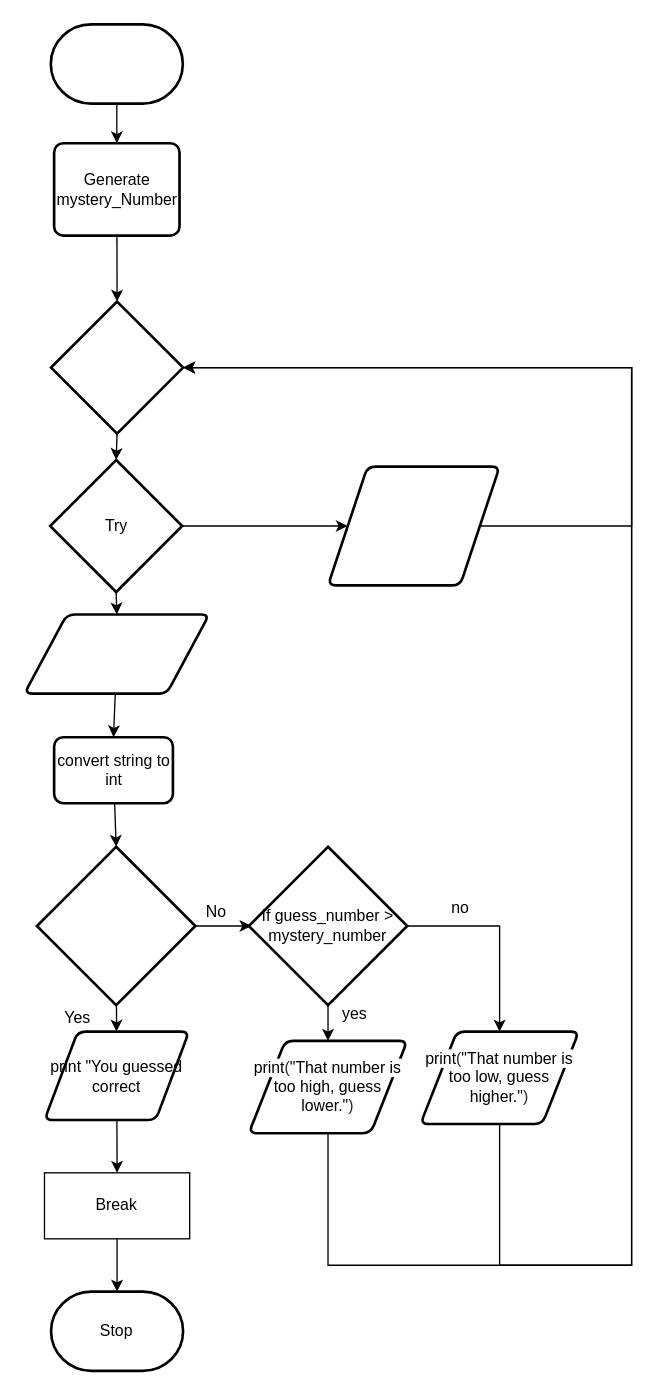
This 665x1394 diagram has some shape labels left out. The centre of each missing label's shape, as x and y in pixels:
Get guess_number: the point at 116,653
guess_number == mystery_number: the point at 115,925
print "That was not a integer from 0-9": the point at 413,525
Start: the point at 116,63
While (True): the point at 116,367
